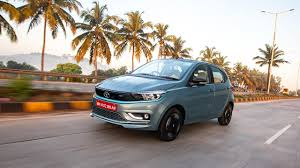Tiago: (89, 55, 236, 147)
